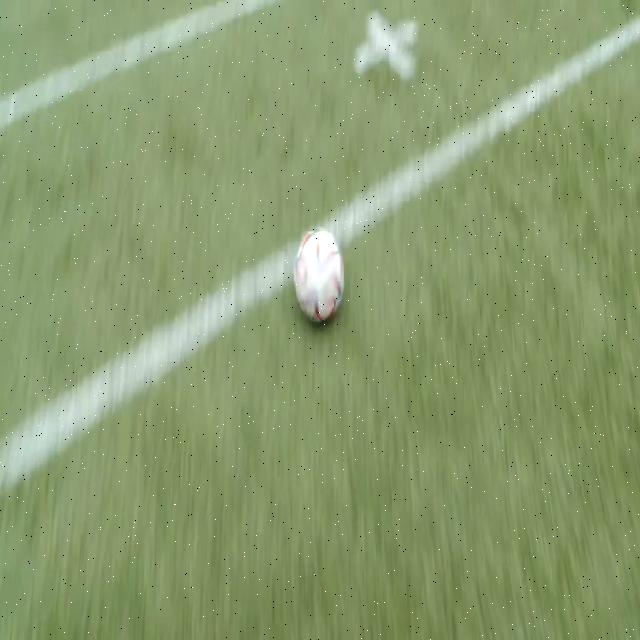ball: (295, 227, 344, 322)
